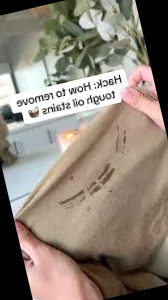oil: (85, 160, 119, 195), (53, 182, 92, 212), (106, 123, 134, 158)
